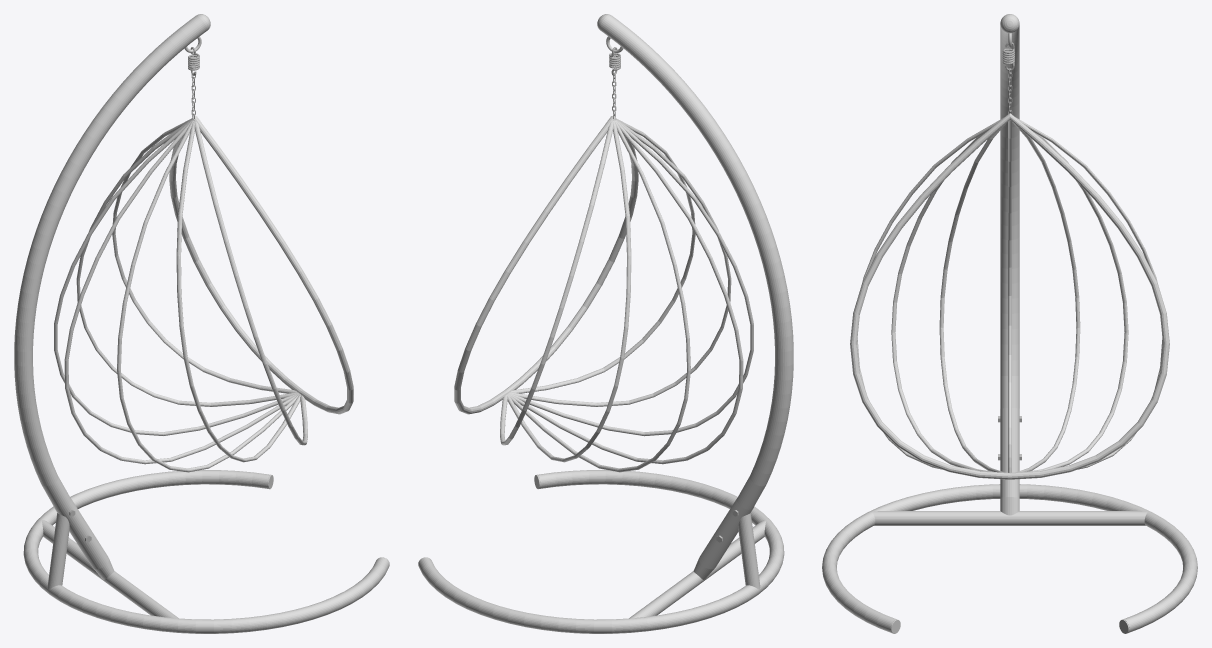
Rendered from sunflower.gltf.
The picture shows the model from 3 angles, left to right: view 1: azimuth 30°, elevation 25°; view 2: azimuth 150°, elevation 25°; view 3: azimuth 270°, elevation 25°; orthographic projection. The views are drawn at different scales.
Visible parts, largest first — view 1: Torus.023, OSNOVANIE, Сфера.002, Сфера.013, Сфера.010, Сфера.001, Сфера.009, Сфера.011, Сфера.012, OSN-DELITEL, Сфера.014, Torus.007 (+1 smaller); view 2: Torus.023, OSNOVANIE, Сфера.002, Сфера.013, Сфера.010, Сфера.001, Сфера.012, Сфера.014, Сфера.009, OSN-DELITEL, Сфера.011, Torus.007 (+1 smaller); view 3: OSNOVANIE, Сфера.002, Torus.023, OSN-DELITEL, Сфера.010, Сфера.001, Torus.007, Сфера.009, Сфера.012, Сфера.013, Сфера.011, Сфера.014.
Boxes of the visible parts, left/top/right/bottom form: Torus.023: left=14, top=14, right=210, bottom=509; OSNOVANIE: left=23, top=470, right=389, bottom=633; Сфера.002: left=169, top=116, right=353, bottom=414; Сфера.013: left=64, top=120, right=299, bottom=464; Сфера.010: left=117, top=120, right=299, bottom=472; Сфера.001: left=54, top=119, right=298, bottom=435; Сфера.009: left=176, top=121, right=300, bottom=462; Сфера.011: left=194, top=121, right=307, bottom=445; Сфера.012: left=76, top=119, right=298, bottom=406; OSN-DELITEL: left=41, top=520, right=178, bottom=618; Сфера.014: left=112, top=118, right=296, bottom=393; Torus.007: left=54, top=499, right=114, bottom=579; Torus.023: left=597, top=14, right=793, bottom=509; OSNOVANIE: left=418, top=470, right=784, bottom=633; Сфера.002: left=454, top=116, right=638, bottom=414; Сфера.013: left=508, top=120, right=743, bottom=464; Сфера.010: left=509, top=119, right=753, bottom=436; Сфера.001: left=508, top=120, right=690, bottom=472; Сфера.012: left=507, top=120, right=631, bottom=462; Сфера.014: left=500, top=121, right=613, bottom=445; Сфера.009: left=509, top=119, right=731, bottom=406; OSN-DELITEL: left=629, top=520, right=766, bottom=618; Сфера.011: left=511, top=118, right=695, bottom=393; Torus.007: left=693, top=499, right=753, bottom=579; OSNOVANIE: left=822, top=484, right=1197, bottom=633; Сфера.002: left=850, top=113, right=1169, bottom=479; Torus.023: left=1000, top=14, right=1019, bottom=408; OSN-DELITEL: left=872, top=511, right=1147, bottom=525; Сфера.010: left=939, top=122, right=1007, bottom=472; Сфера.001: left=1012, top=122, right=1080, bottom=472; Torus.007: left=1000, top=408, right=1019, bottom=515; Сфера.009: left=891, top=133, right=993, bottom=471; Сфера.012: left=1026, top=133, right=1128, bottom=471; Сфера.013: left=1008, top=120, right=1011, bottom=472; Сфера.011: left=857, top=117, right=1003, bottom=469; Сфера.014: left=1016, top=117, right=1162, bottom=469.
Size of the model in its own units: 1.08 by 1.78 by 1.09.
2 materials, 1 textured.
